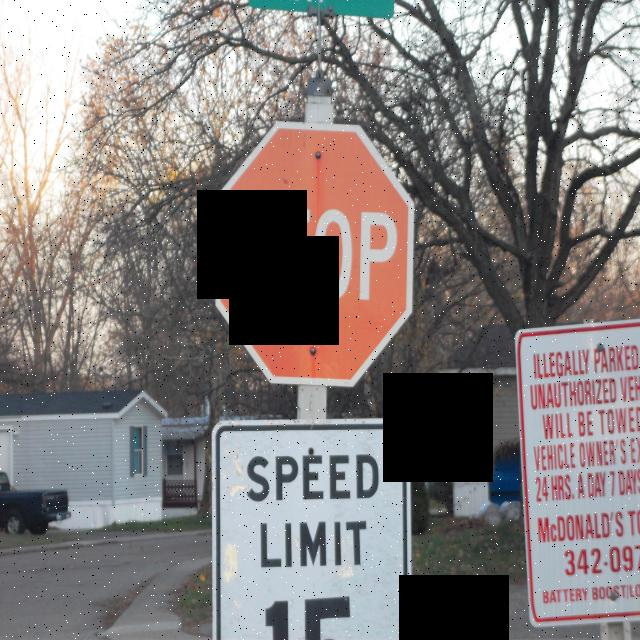regulatory: (206, 417, 419, 640), (507, 318, 640, 626)
stop: (207, 115, 421, 394)
